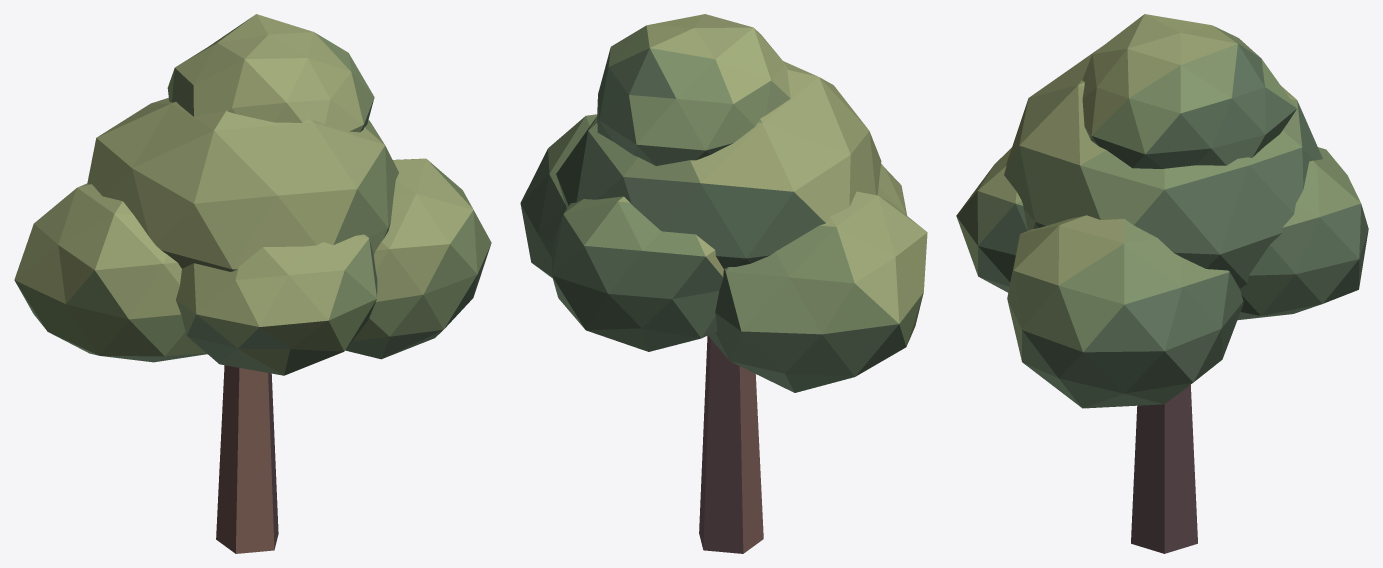
Rendered from tree_clump.glb.
3 views of the same model, side by side, from view 1: azimuth 30°, elevation 25°; view 2: azimuth 150°, elevation 25°; view 3: azimuth 270°, elevation 25° (orthographic). The views are drawn at different scales.
Visible parts, largest first — view 1: tree_clump; view 2: tree_clump; view 3: tree_clump.
Boxes of the visible parts, box(x1,y1,x2,y2) form: tree_clump: box(14, 14, 491, 553); tree_clump: box(520, 14, 927, 553); tree_clump: box(956, 14, 1368, 553).
Bounding box in the file's own units: 3.05 × 3.57 × 2.57.
